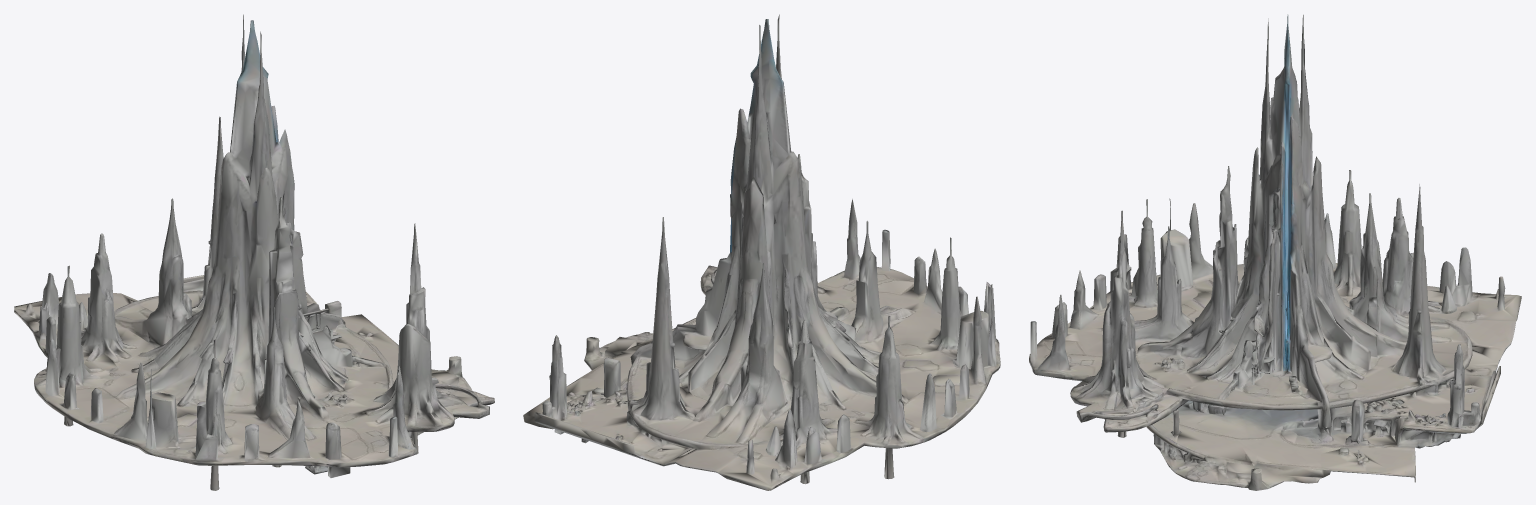
The model's file is tower.glb.
3 renders of one model, left to right at view 1: azimuth 30°, elevation 25°; view 2: azimuth 150°, elevation 25°; view 3: azimuth 270°, elevation 25°, orthographic. The views are drawn at different scales.
Parts seen in each view (by area): view 1: tripo_node_3f39ff8a-48a8-406a-81cb-aabc02b1392a; view 2: tripo_node_3f39ff8a-48a8-406a-81cb-aabc02b1392a; view 3: tripo_node_3f39ff8a-48a8-406a-81cb-aabc02b1392a.
Boxes of the visible parts, left/top/right/bottom form: tripo_node_3f39ff8a-48a8-406a-81cb-aabc02b1392a: left=14, top=14, right=494, bottom=490; tripo_node_3f39ff8a-48a8-406a-81cb-aabc02b1392a: left=523, top=14, right=1000, bottom=490; tripo_node_3f39ff8a-48a8-406a-81cb-aabc02b1392a: left=1029, top=14, right=1521, bottom=490.
Size of the model in its own units: 1.02 by 0.9978 by 1.15.
Materials: 1 (1 with a texture image).
